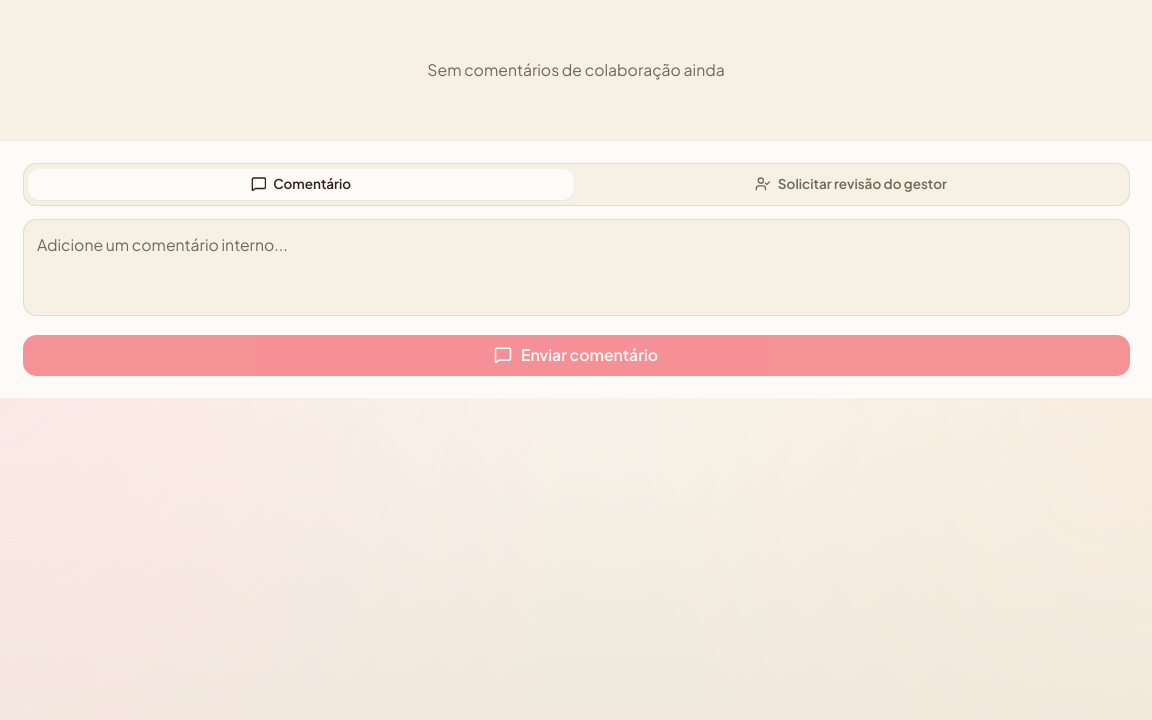
CollaborationTab › mostra o select de gestor quando existem gestores disponíveis
Expected: the text "Sem comentários de colaboração ainda" is shown, 427,58 -> 725,81
Click the button "Solicitar revisão do gestor" at point(851, 184), box 578,168 -> 1124,200
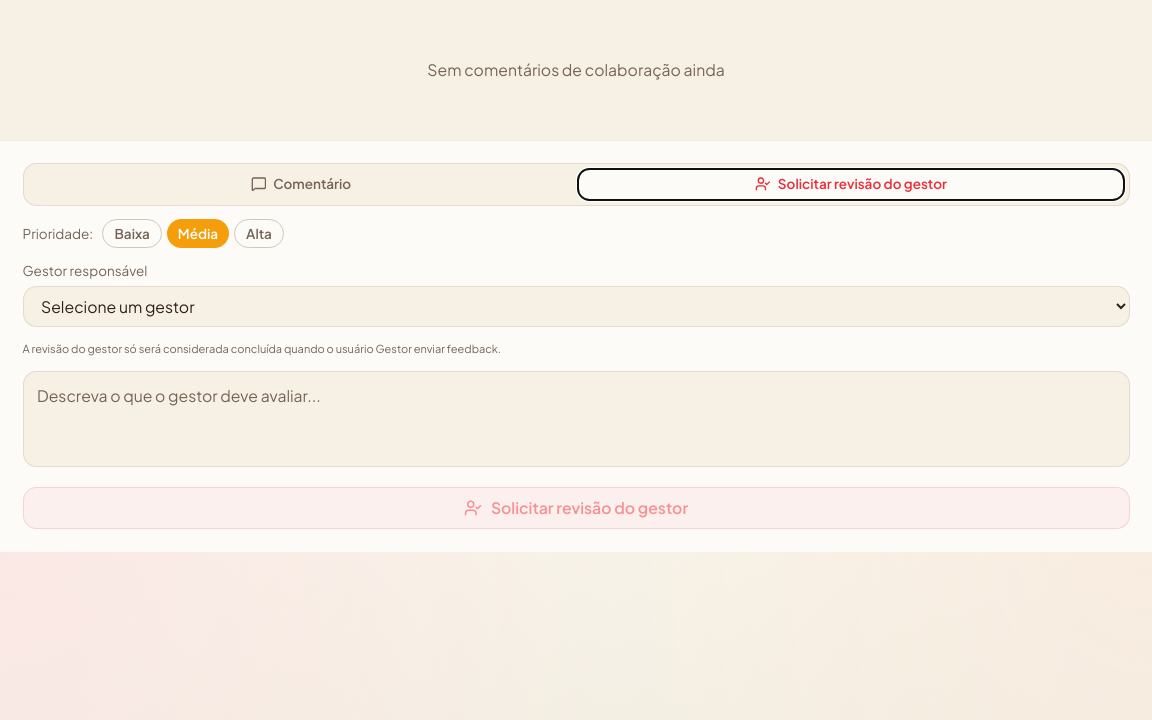
Expected: the dropdown labelled "Gestor responsável" is shown, 22,286 -> 1130,327
